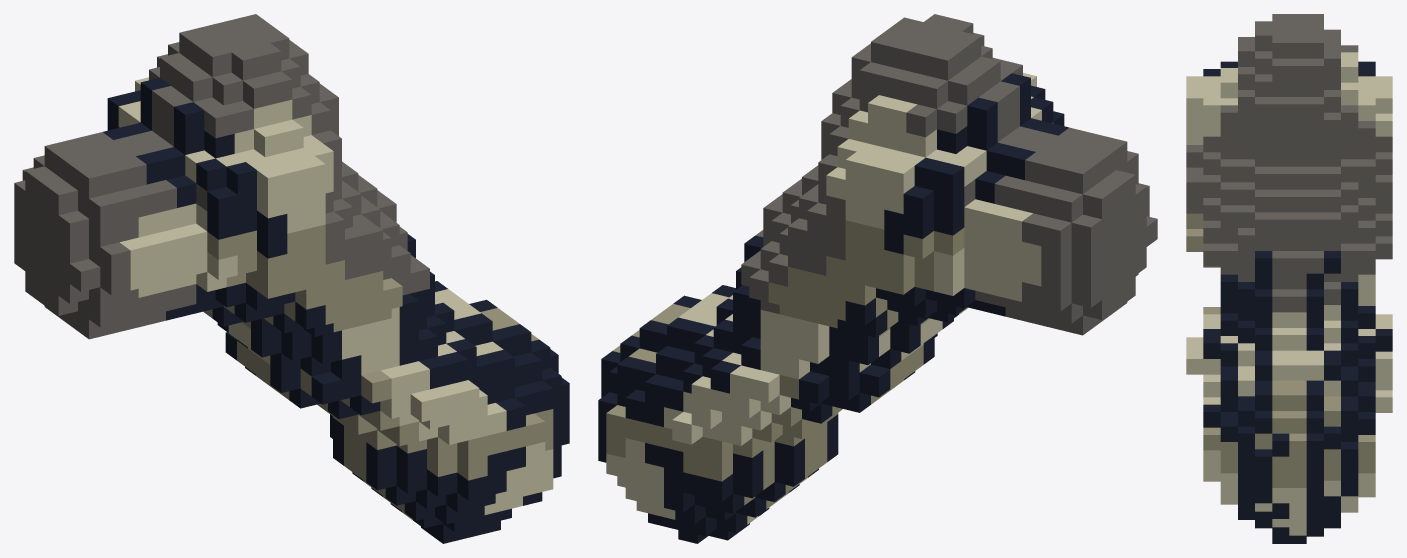
File: Bones2.glb
3 views of the same model, side by side, from view 1: azimuth 30°, elevation 25°; view 2: azimuth 150°, elevation 25°; view 3: azimuth 270°, elevation 25° (orthographic). The views are drawn at different scales.
Parts seen in each view (by area): view 1: q0; view 2: q0; view 3: q0.
Boxes of the visible parts, x1,y1,x2,y2 form: q0: [14, 14, 569, 543]; q0: [598, 14, 1157, 543]; q0: [1186, 14, 1392, 543].
Bounding box in the file's own units: 26 × 27 × 12.
Materials: 1 (1 with a texture image).
